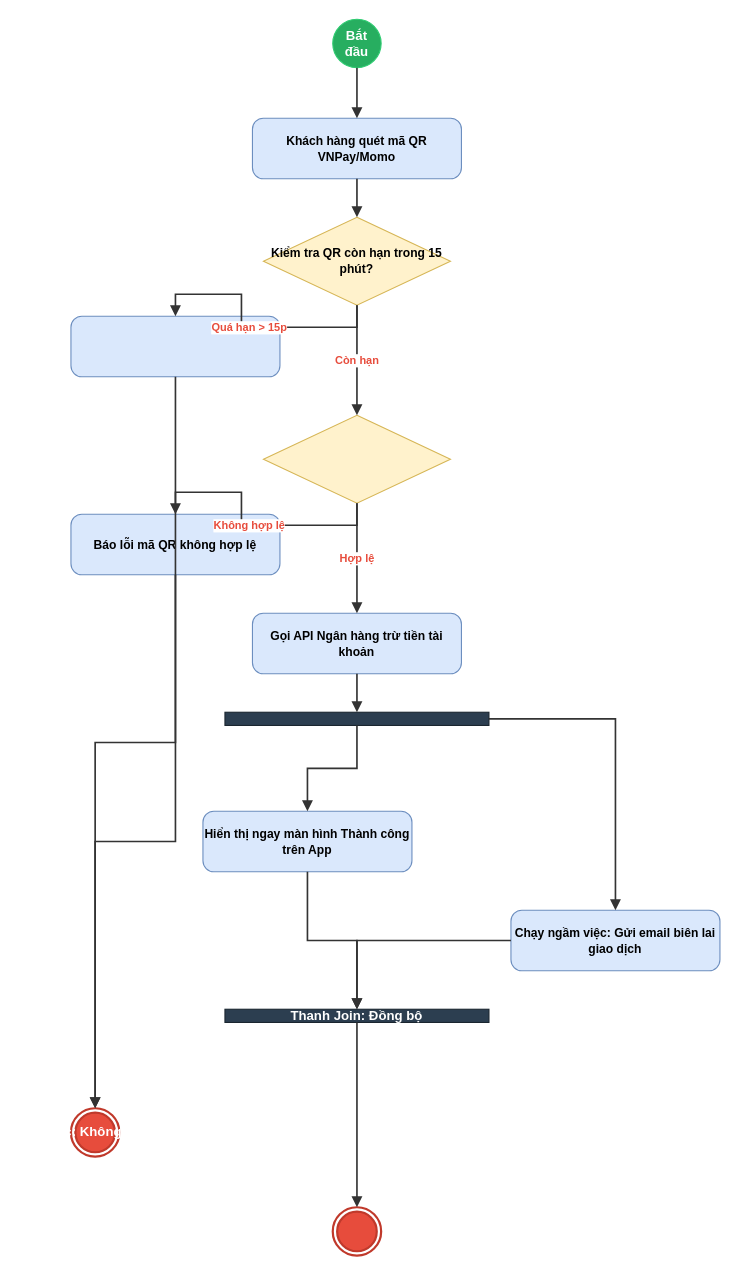
Image size: 739x1276. Some labels were removed from this diagram. The box of each missing label's shape, as (x1, y1, x2, y2) in pixels:
Kết thúc: Giao dịch thành công: (331, 1206, 382, 1256)
Thanh Fork: Xử lý song song: (224, 711, 489, 725)
Từ chối ngay & Yêu cầu lấy mã mới: (70, 315, 280, 377)
Xác minh chữ ký & QR hợp lệ?: (262, 414, 450, 503)
